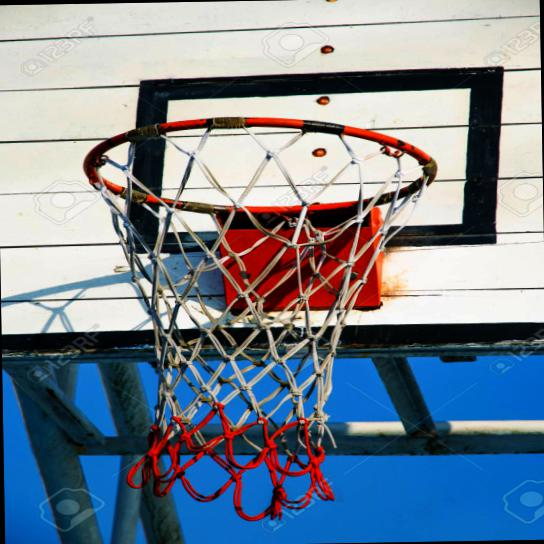basketball-hoop: (79, 110, 448, 528)
